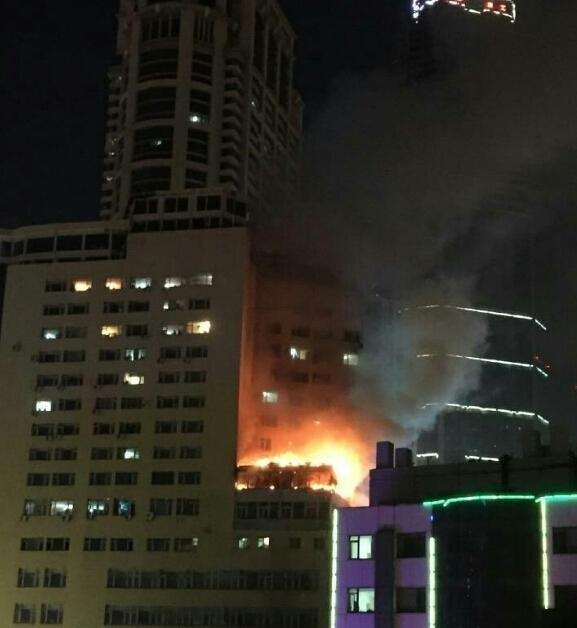fire: (237, 437, 373, 499)
